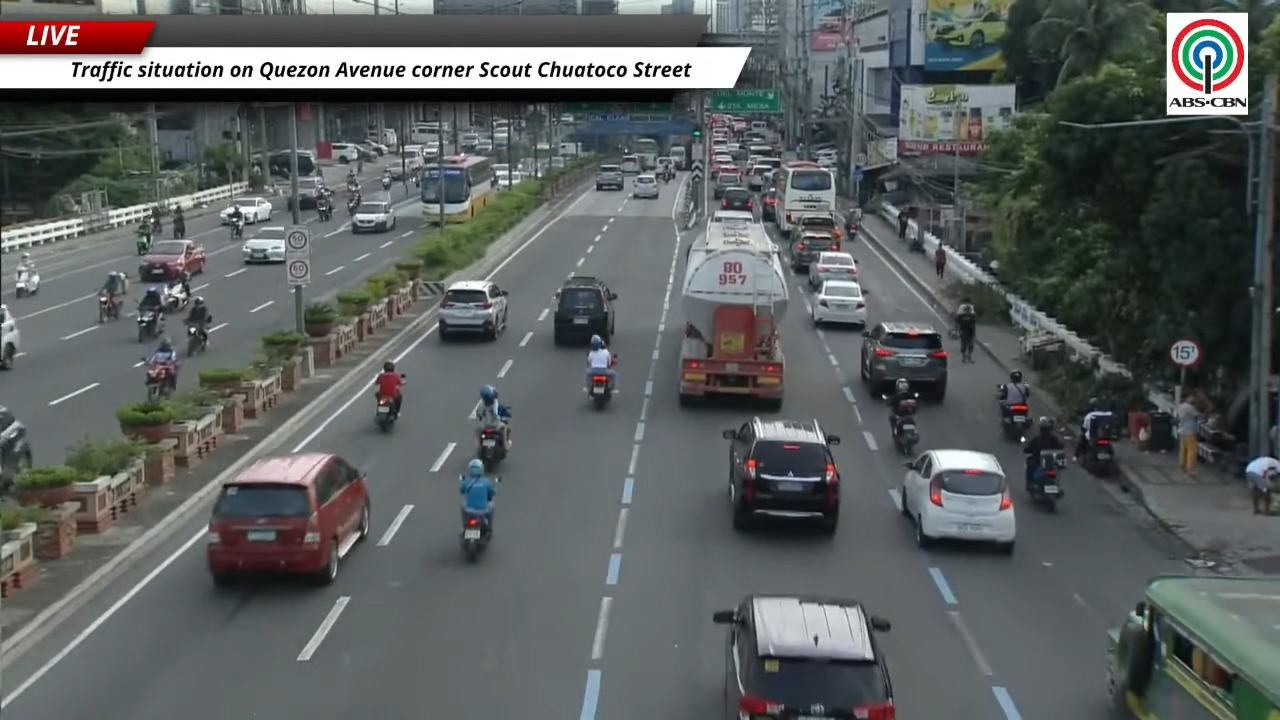bus: (1107, 576, 1279, 719), (419, 155, 495, 223), (775, 161, 836, 234), (631, 138, 660, 169)
car: (713, 595, 896, 719), (206, 452, 368, 585), (722, 417, 840, 534), (900, 449, 1015, 553), (860, 321, 948, 400), (553, 275, 616, 344), (438, 280, 507, 340), (0, 406, 32, 493), (138, 240, 206, 280), (932, 12, 1005, 49), (811, 280, 867, 327), (789, 231, 838, 272), (808, 252, 858, 289), (791, 212, 843, 244), (243, 227, 285, 263), (220, 196, 272, 224), (351, 201, 394, 233), (719, 187, 754, 212), (299, 177, 325, 209), (713, 170, 741, 199), (595, 164, 624, 190), (399, 145, 424, 172), (331, 142, 363, 163), (747, 164, 772, 190), (632, 174, 659, 198), (709, 153, 733, 179), (710, 209, 754, 223), (761, 188, 777, 221), (495, 170, 522, 189), (353, 141, 380, 160), (362, 138, 389, 155), (619, 155, 643, 174), (491, 163, 514, 181), (475, 138, 494, 155), (656, 157, 676, 171), (549, 155, 566, 169)
motorcycle: (1026, 450, 1066, 511), (893, 399, 920, 456), (460, 513, 491, 562), (1081, 436, 1115, 478), (477, 427, 507, 470), (145, 363, 175, 400), (1001, 403, 1031, 439), (587, 373, 615, 409), (588, 374, 613, 410), (138, 310, 162, 343), (15, 265, 39, 297), (374, 398, 397, 431), (98, 291, 122, 322), (374, 398, 396, 431), (163, 285, 189, 312), (186, 323, 206, 356), (135, 230, 151, 255), (230, 217, 244, 240), (908, 234, 924, 253), (150, 215, 162, 236), (318, 203, 331, 222), (173, 219, 185, 238), (347, 198, 359, 216), (381, 176, 391, 190)
truck: (679, 220, 788, 410), (0, 303, 20, 369)
